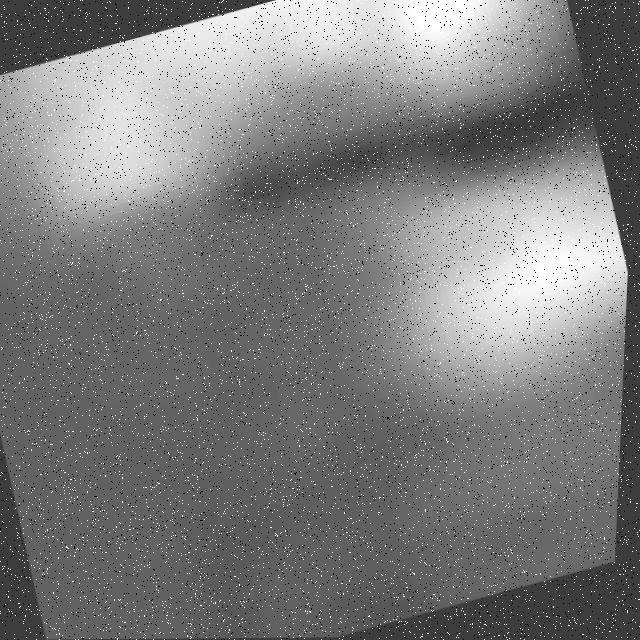person: (1, 1, 596, 268), (350, 144, 636, 434)
